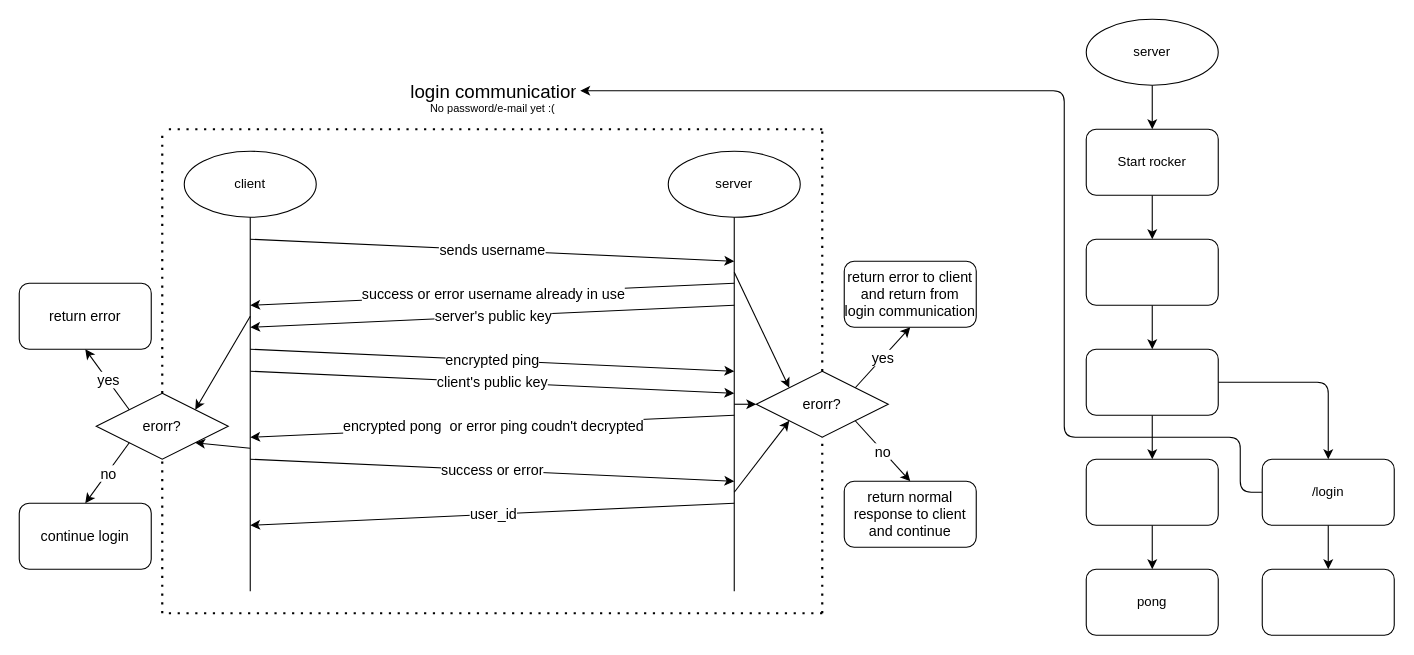
This 1414x655 diagram has some shape labels left out. The shapes that lost their labels are listed below. From the top down, each one's centre as x and y in pixels, then its label:
At pixel 1151 271: "/api".
At pixel 1151 381: "/v1".
At pixel 1151 491: "/ping".
At pixel 1327 601: "user_id or error".
